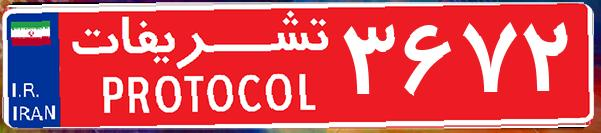2: (520, 20, 580, 115)
3: (340, 20, 400, 115)
6: (400, 20, 460, 115)
7: (460, 20, 520, 115)
تشریفات: (60, 8, 340, 125)
